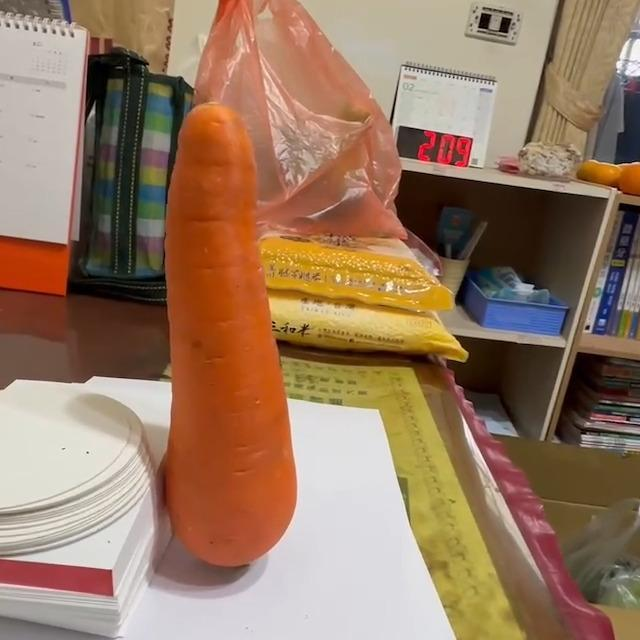carrot: (162, 101, 302, 571)
